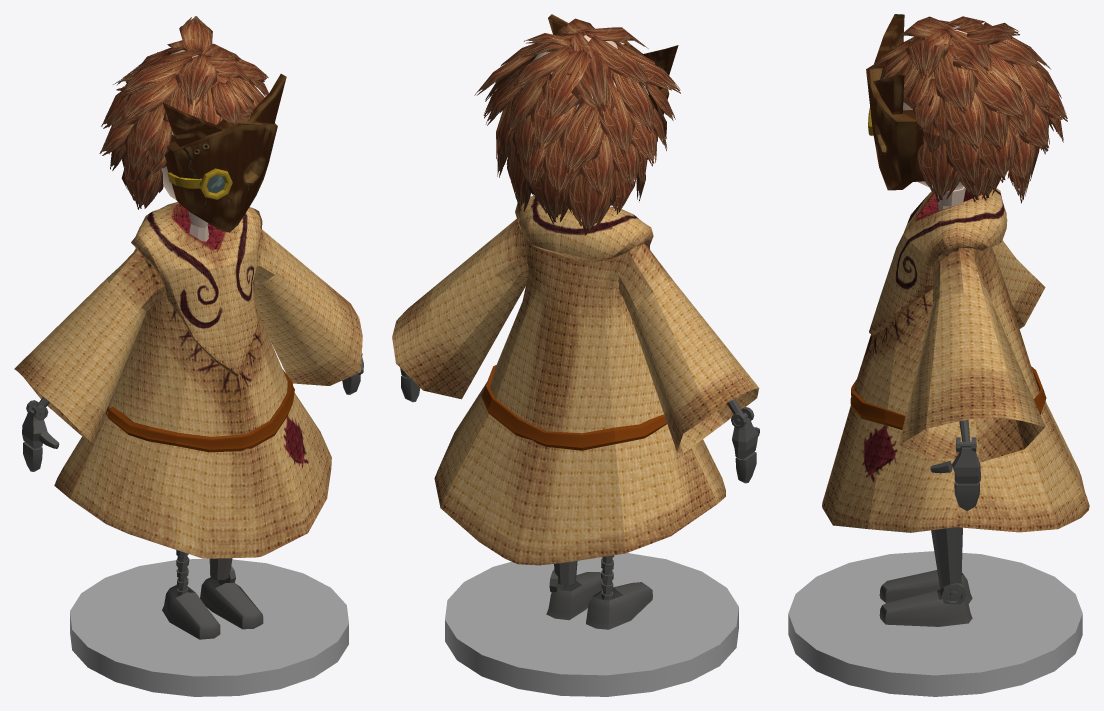
Rendered from tm-old-temp.fbx.
The picture shows the model from 3 angles, left to right: view 1: azimuth 30°, elevation 25°; view 2: azimuth 150°, elevation 25°; view 3: azimuth 270°, elevation 25°; orthographic projection. The views are drawn at different scales.
Parts seen in each view (by area): view 1: polySurface55, TM_temp; view 2: polySurface55, TM_temp; view 3: polySurface55, TM_temp.
Part boxes in pixels (bbox=[...]): polySurface55: bbox=[14, 16, 363, 639]; TM_temp: bbox=[70, 558, 348, 696]; polySurface55: bbox=[392, 14, 759, 629]; TM_temp: bbox=[445, 553, 738, 696]; polySurface55: bbox=[822, 14, 1089, 626]; TM_temp: bbox=[788, 551, 1082, 696].
Bounding box in the file's own units: 13.06 × 22.36 × 9.89.
7 materials, 3 textured.
